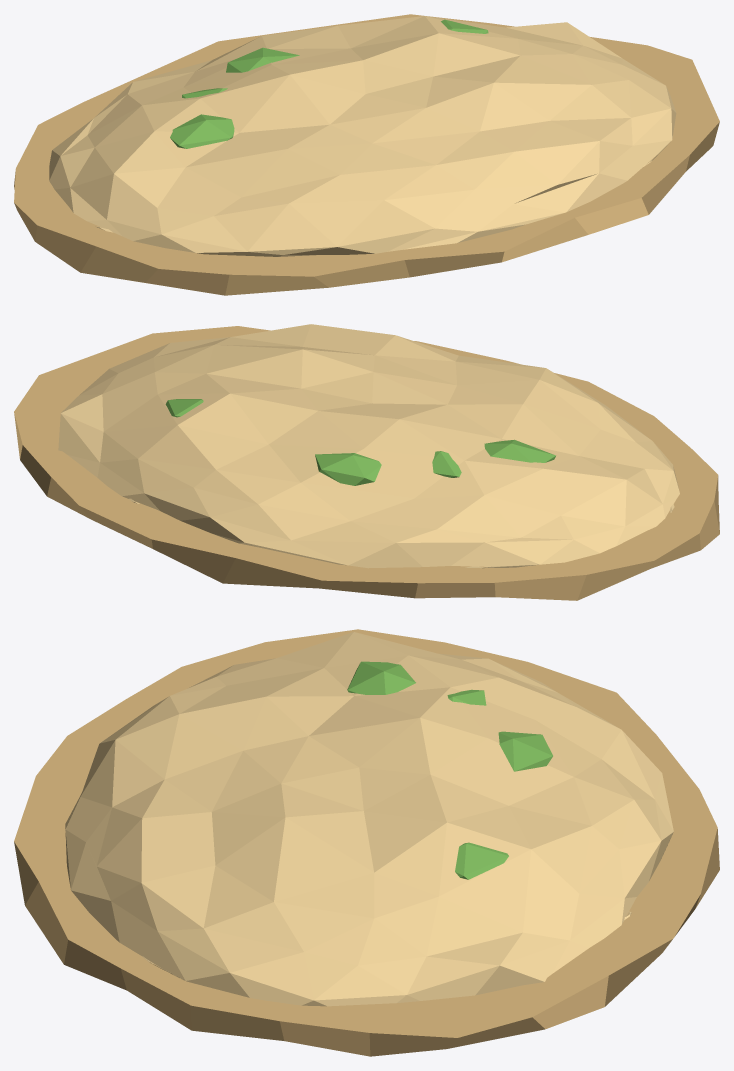
Rendered from ile.glb.
The picture shows the model from 3 angles, top to bottom: view 1: azimuth 30°, elevation 25°; view 2: azimuth 150°, elevation 25°; view 3: azimuth 270°, elevation 25°; orthographic projection. The views are drawn at different scales.
Visible parts, largest first — view 1: Icosphere, Cylinder, Icosphere.002, Icosphere.004; view 2: Icosphere, Cylinder, Icosphere.004, Icosphere.002, Icosphere.001, Icosphere.003; view 3: Icosphere, Cylinder, Icosphere.002, Icosphere.004, Icosphere.003.
Part boxes in pixels (<box>): Icosphere: <box>49,16,676,256</box>; Cylinder: <box>14,14,719,295</box>; Icosphere.002: <box>170,114,234,148</box>; Icosphere.004: <box>226,47,299,72</box>; Icosphere: <box>58,324,679,568</box>; Cylinder: <box>14,326,719,600</box>; Icosphere.004: <box>315,453,381,485</box>; Icosphere.002: <box>484,439,555,462</box>; Icosphere.001: <box>432,451,461,477</box>; Icosphere.003: <box>165,399,203,417</box>; Icosphere: <box>65,632,673,1006</box>; Cylinder: <box>14,629,719,1056</box>; Icosphere.002: <box>347,661,415,694</box>; Icosphere.004: <box>498,731,552,771</box>; Icosphere.003: <box>455,842,508,879</box>.
Bounding box in the file's own units: 9.58 × 1.28 × 7.03.
